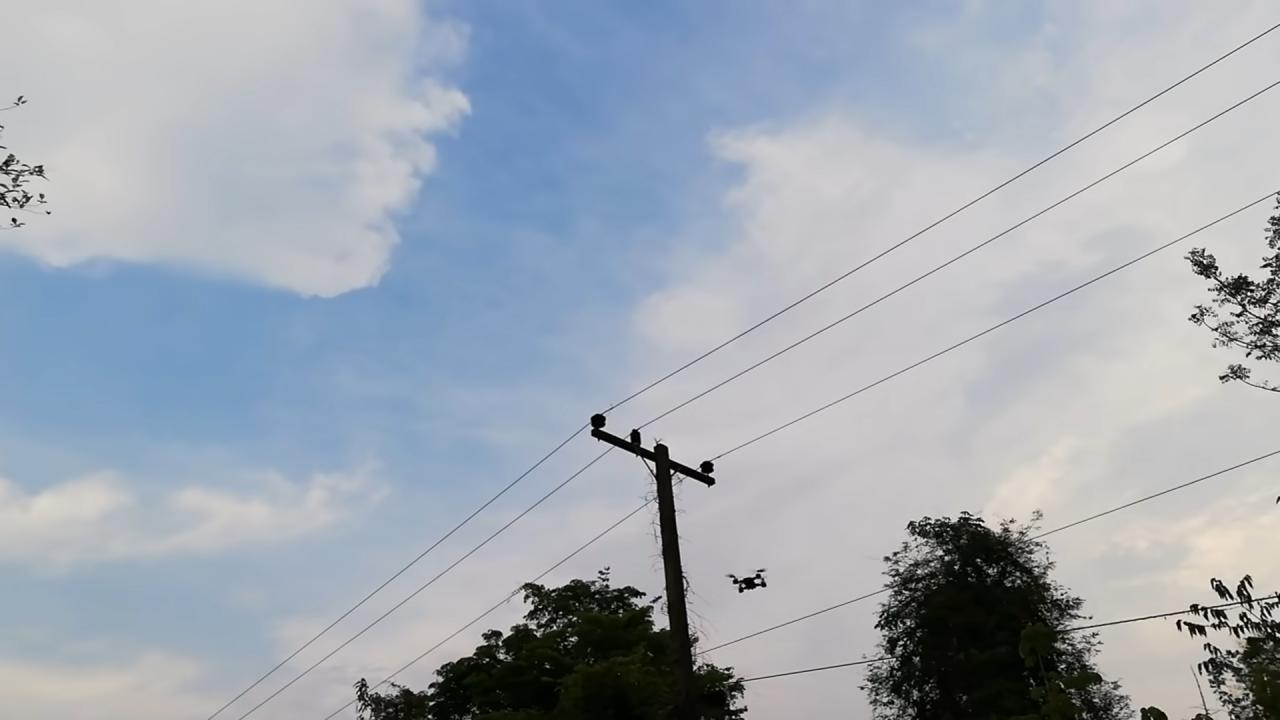Drone: (721, 562, 777, 601)
